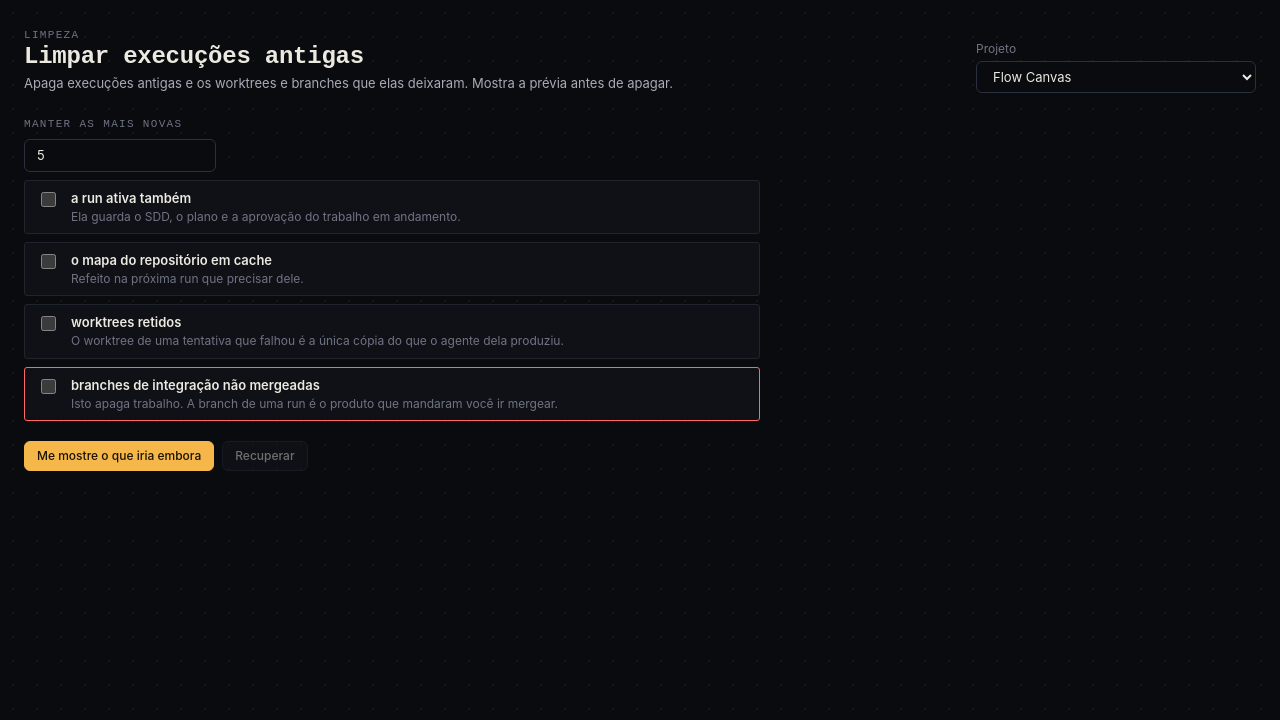
the clean page › says plainly when there is nothing inside the window
The width and height of the screenshot is (1280, 720).
Step 1. Click the button "Me mostre o que iria embora" → point(119, 456), box [24,441,214,471]
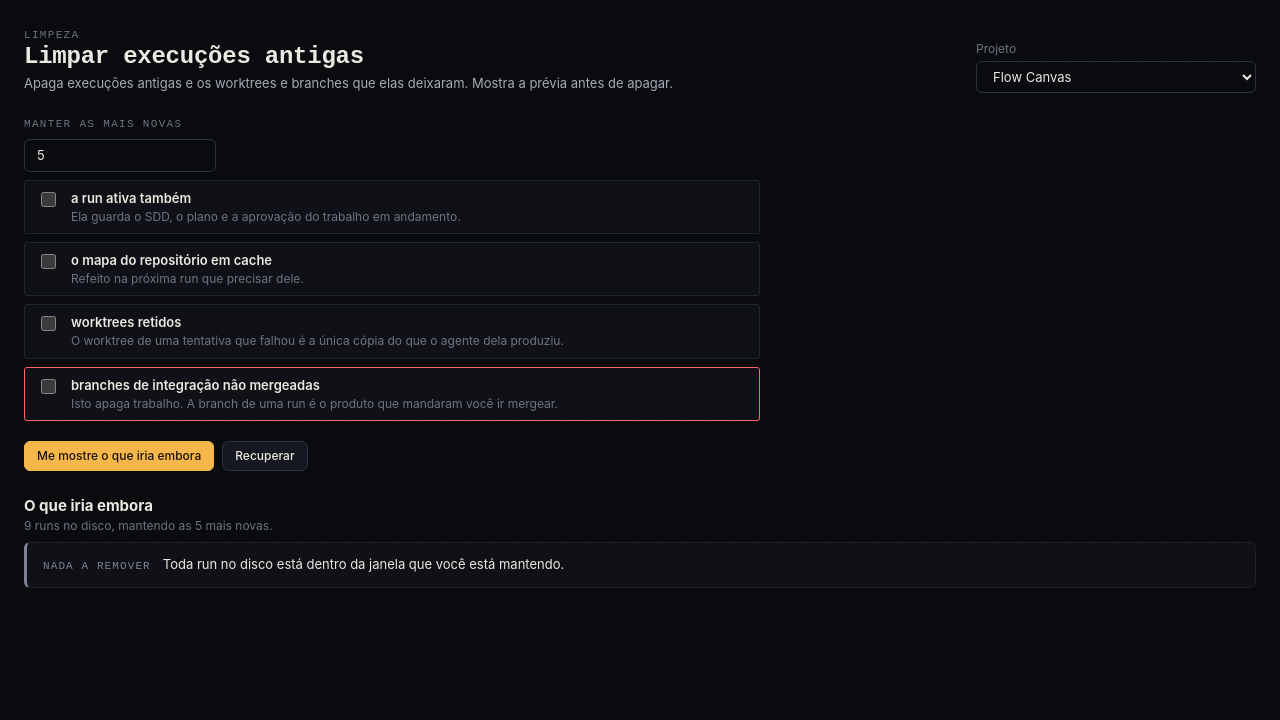
expect the text "Toda run no disco está dentro da janela que você está mantendo." is shown: met, box [163,555,564,574]
